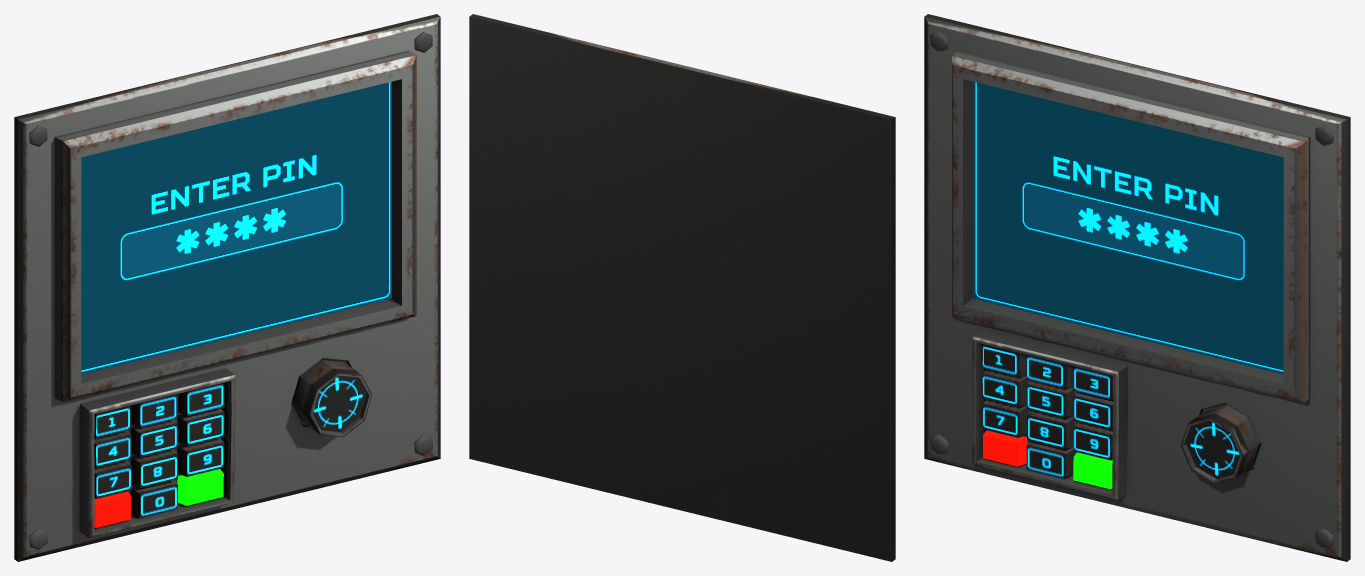
Rendered from simple_sci-fi_wall_panel.glb.
3 views of the same model, side by side, from view 1: azimuth 30°, elevation 25°; view 2: azimuth 150°, elevation 25°; view 3: azimuth 330°, elevation 25° (orthographic).
Visible parts, largest first — view 1: Cube; view 2: Cube; view 3: Cube.
Boxes of the visible parts, <box> form: Cube: <box>14,14,440,561</box>; Cube: <box>469,14,895,561</box>; Cube: <box>924,14,1350,561</box>.
Size of the model in its own units: 200 by 200 by 17.51.
Materials: 2 (1 with a texture image).
